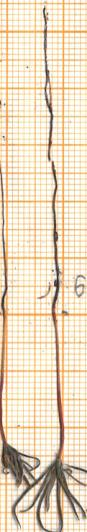flower: (11, 454, 87, 532), (0, 429, 44, 492)
root: (37, 7, 67, 315)
stem: (49, 313, 69, 455)
